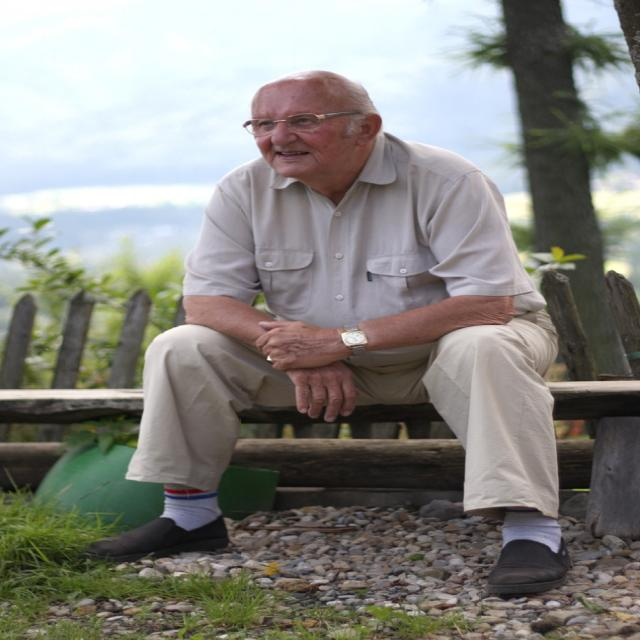Glasses: (244, 104, 364, 134)
